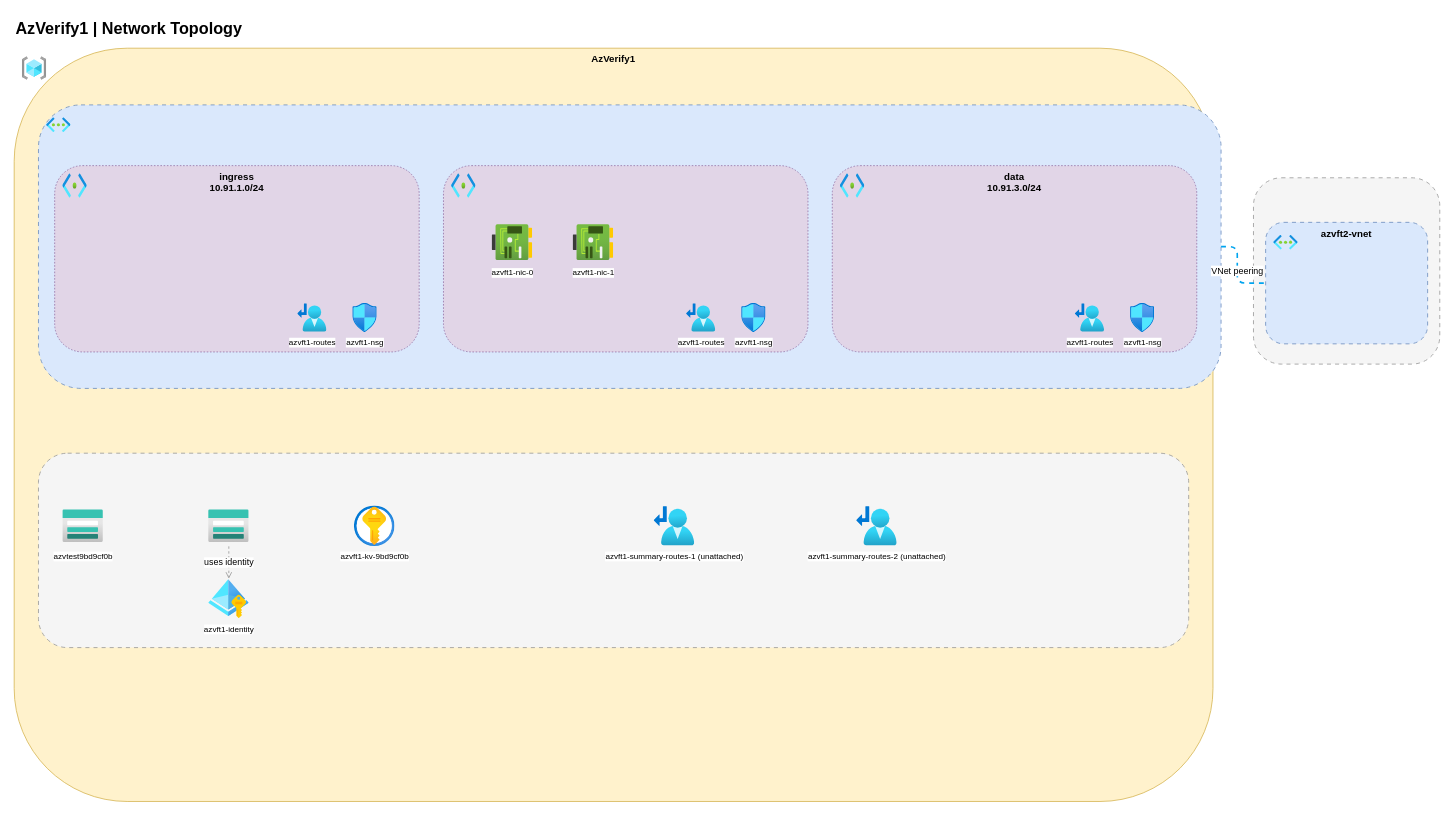
This 1454x816 diagram has some shape labels left out. The box of each missing label's shape, as (x1, y1, x2, y2) in pixels:
application 10.91.2.0/24: (443, 165, 808, 352)
AzVerify2 (external): (1253, 177, 1440, 364)
azvft1-vnet: (38, 104, 1221, 388)
azvft19bd9cf0b: (208, 505, 249, 546)
Resources outside the VNet (no confirmed subnet association): (38, 452, 1189, 648)
